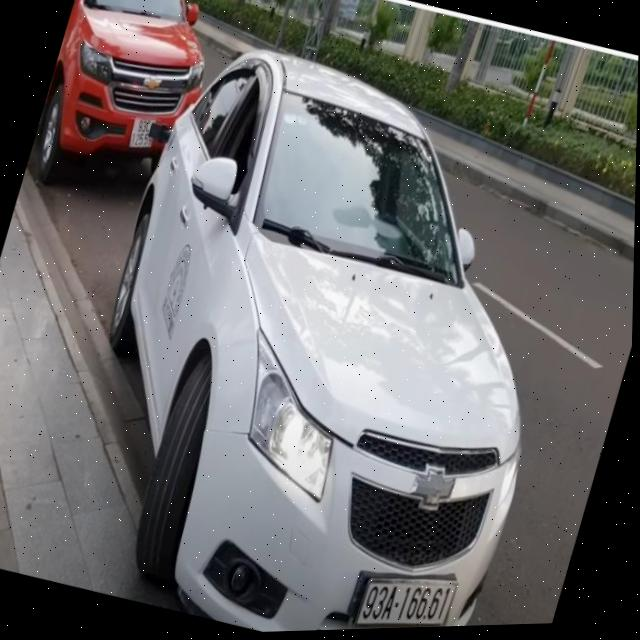car: (22, 11, 630, 639), (25, 0, 232, 203)
plate: (348, 556, 460, 629), (120, 109, 165, 158)
